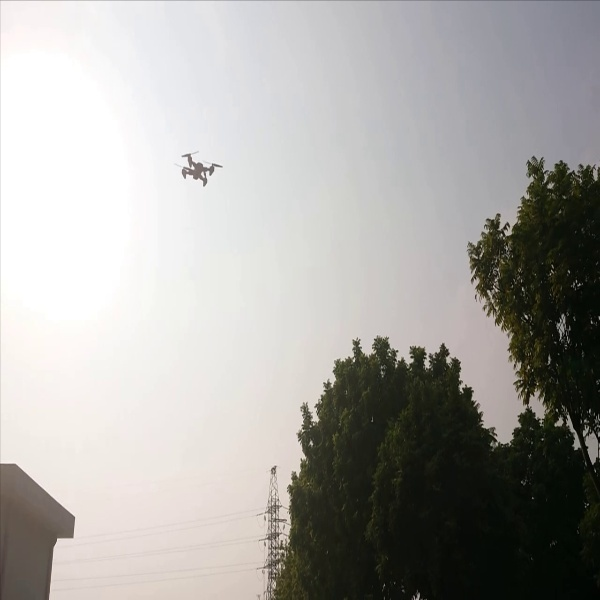drone: (169, 140, 226, 192)
